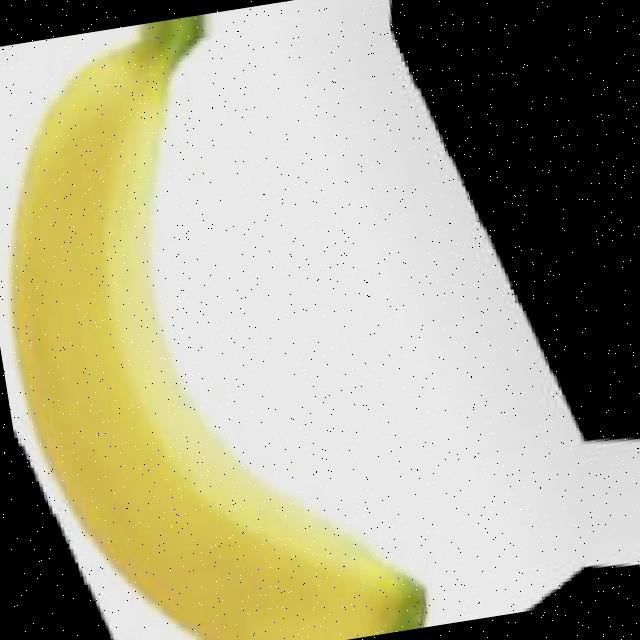banana: (0, 1, 458, 640)
